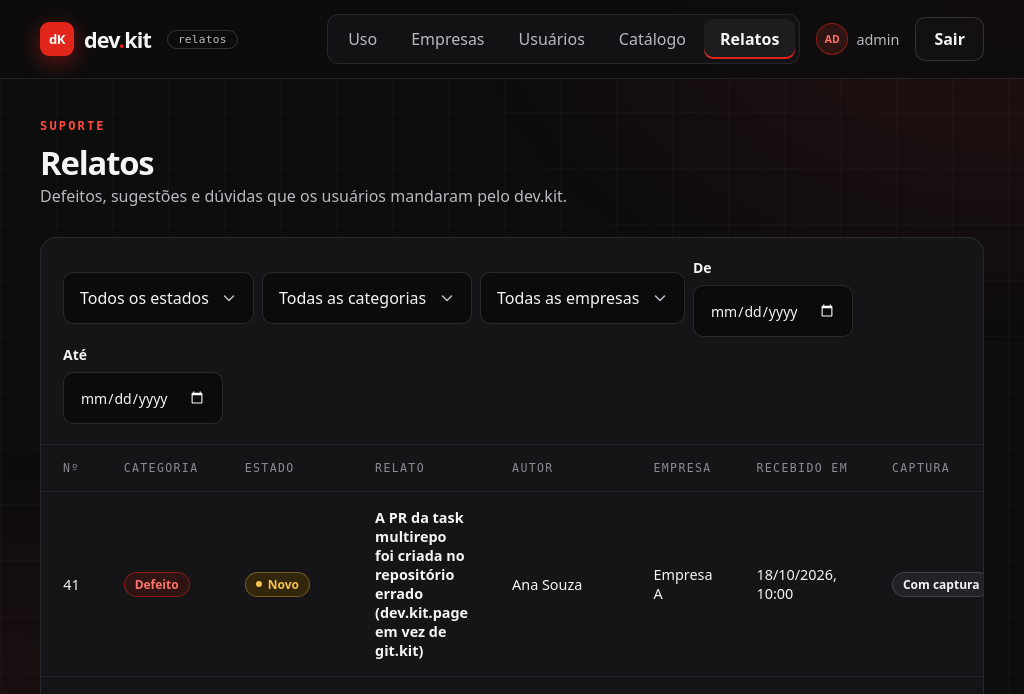
Scenario: Relatos (US #602) › o detalhe mostra o texto, o contexto em <pre> e a captura
What coordinates should you click on to do the following:
click the button with aria-label "Abrir o relato 41:"
I would click on:
 (422, 584)
Its box is [375,508,468,660].
(page scrolled)
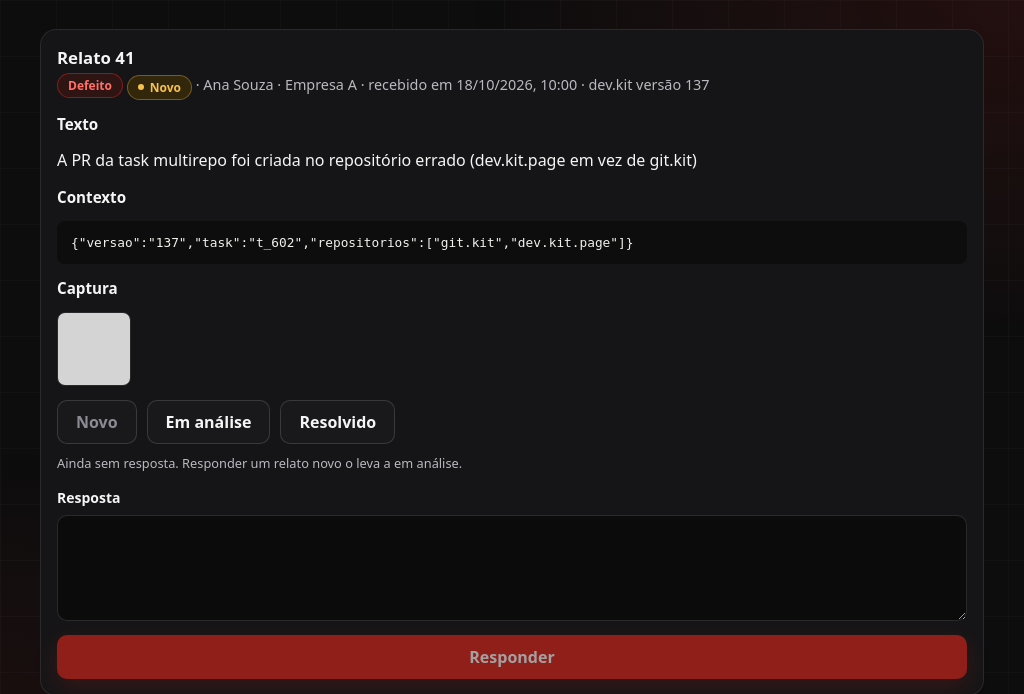
Expected: the text "A PR da task multirepo foi criada no repositório errado (dev.kit.page em vez de git.kit)" is shown, [57,149,697,171]
Expected: the text named "Contexto do relato" shows "\"task\":\"t_602\"", [71,235,633,250]
Expected: the text "Ainda sem resposta. Responder um relato novo o leva a em análise." is shown, [57,454,462,472]
